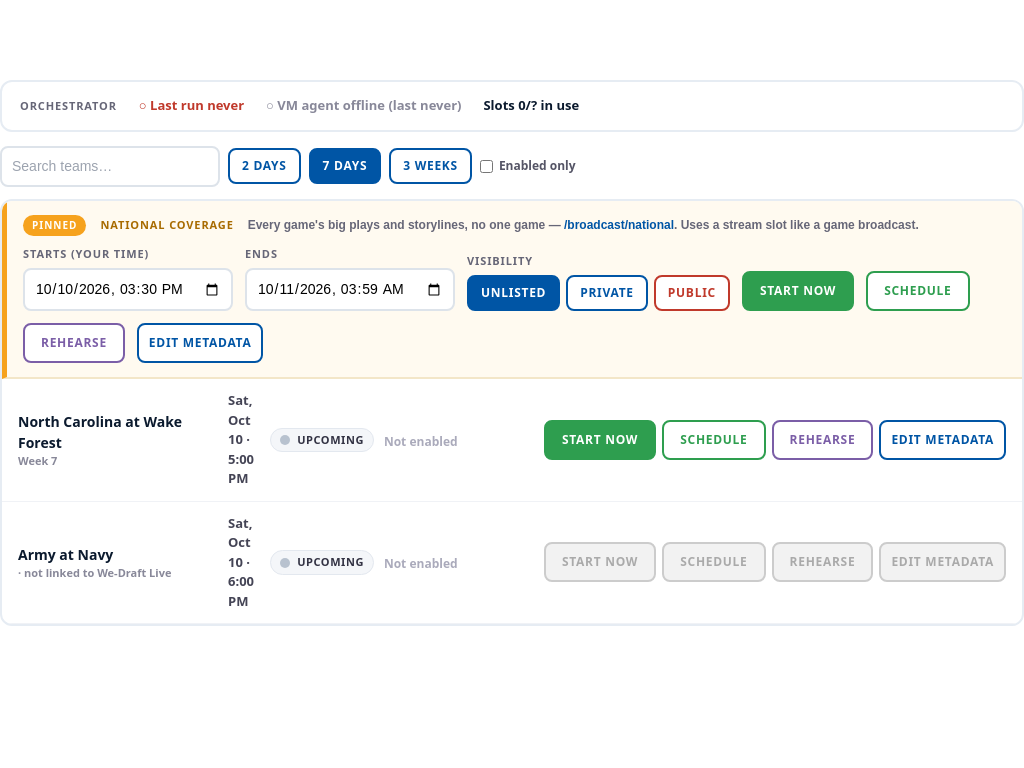
Edit Metadata › a previously saved draft is loaded instead of the defaults
Click the button "Edit Metadata" in the row of "Wake Forest": (943, 440) left=879, top=420, right=1006, bottom=460
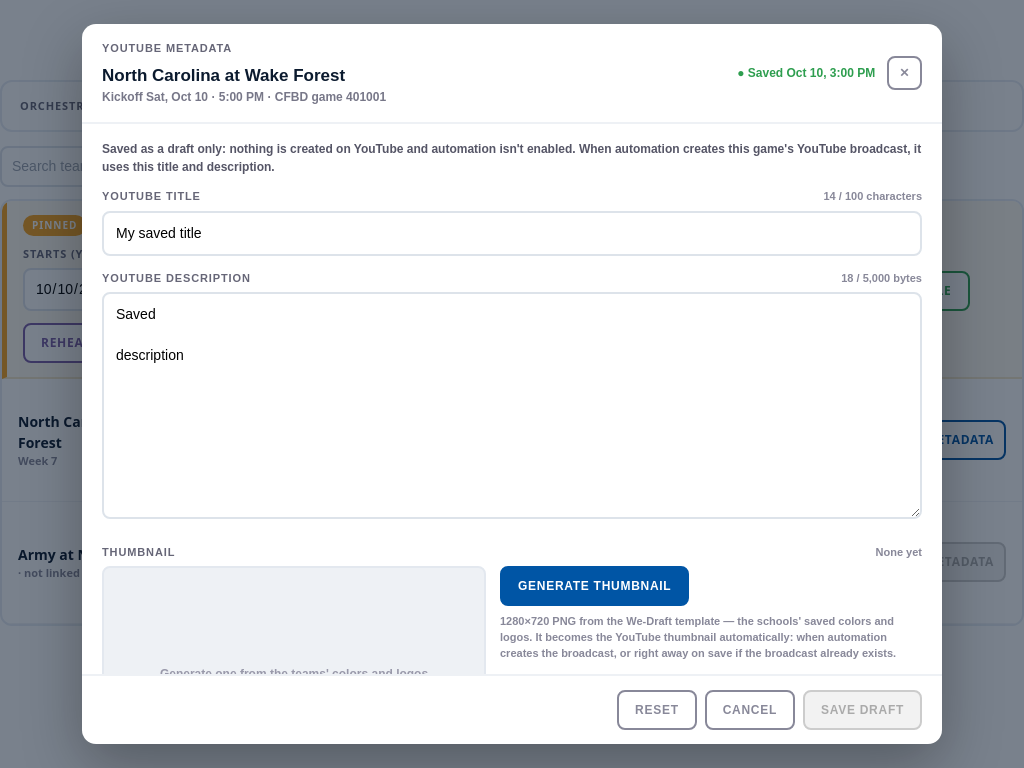
Expected: the field showing "My saved title" is shown, left=102, top=210, right=922, bottom=256
Expected: the text with test id "metadata-status" shows "Saved", left=748, top=66, right=875, bottom=80
Expected: the button "Save Draft" is disabled, left=803, top=690, right=922, bottom=730
